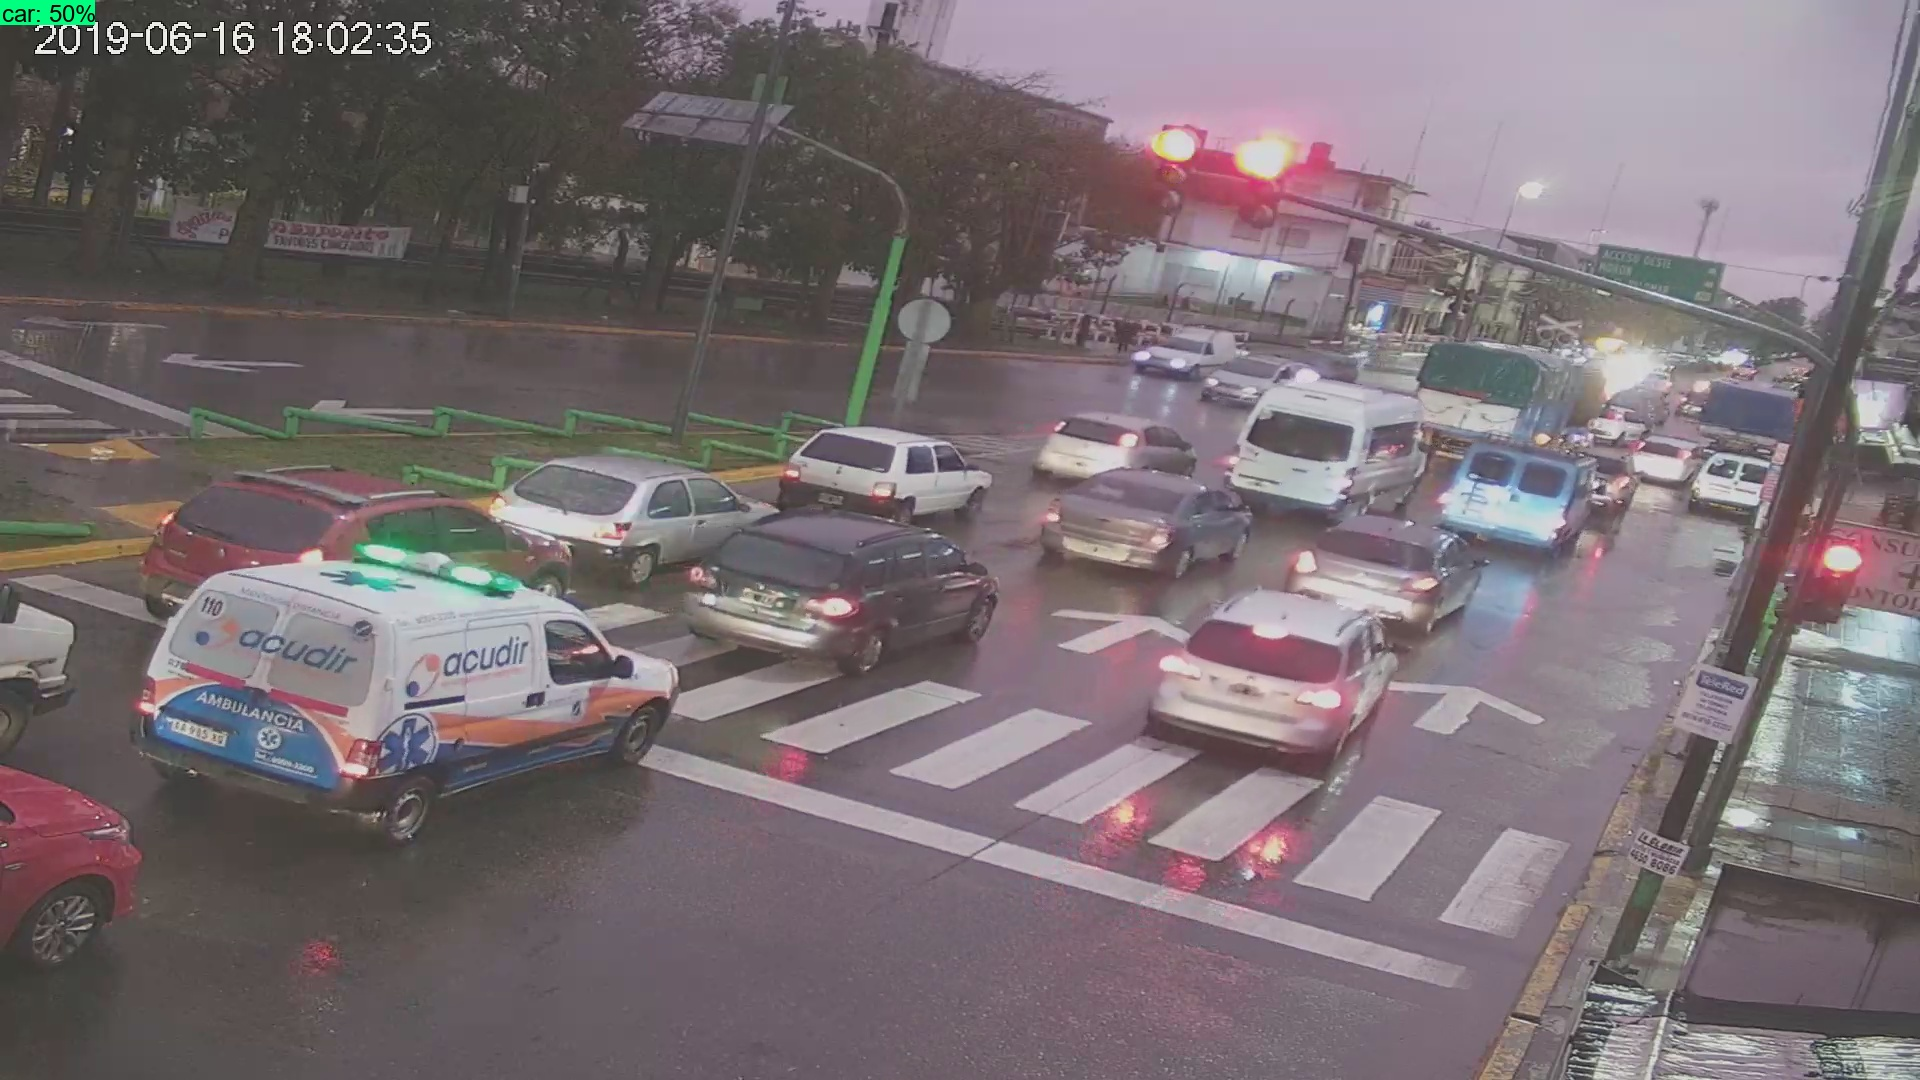car: (673, 514, 1021, 676), (1141, 585, 1407, 775), (506, 422, 802, 584), (1, 750, 141, 968), (1222, 384, 1437, 524), (1290, 513, 1498, 646), (771, 400, 998, 520), (1034, 483, 1276, 580), (1422, 436, 1593, 564), (1688, 438, 1779, 525)
paramedics: (120, 578, 686, 832)
